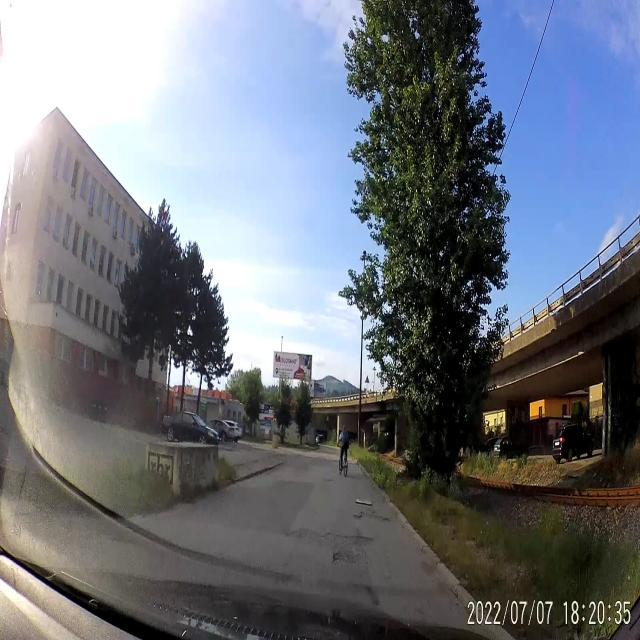Pothole: (327, 541, 355, 568), (352, 509, 390, 528)
